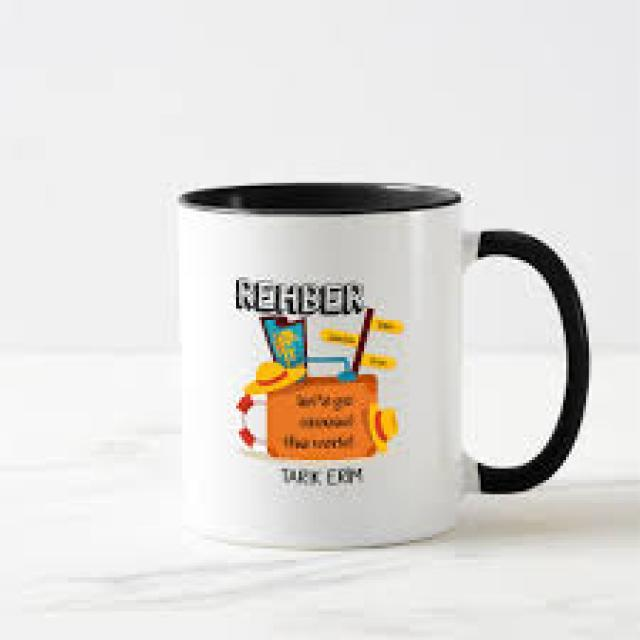taza: (172, 178, 590, 554)
